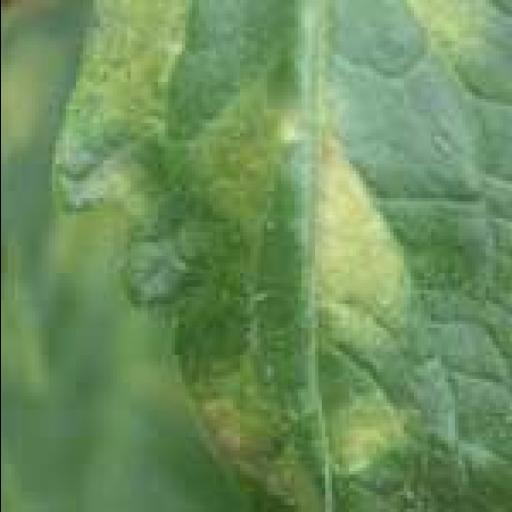disease_tomato: (38, 4, 508, 512)
